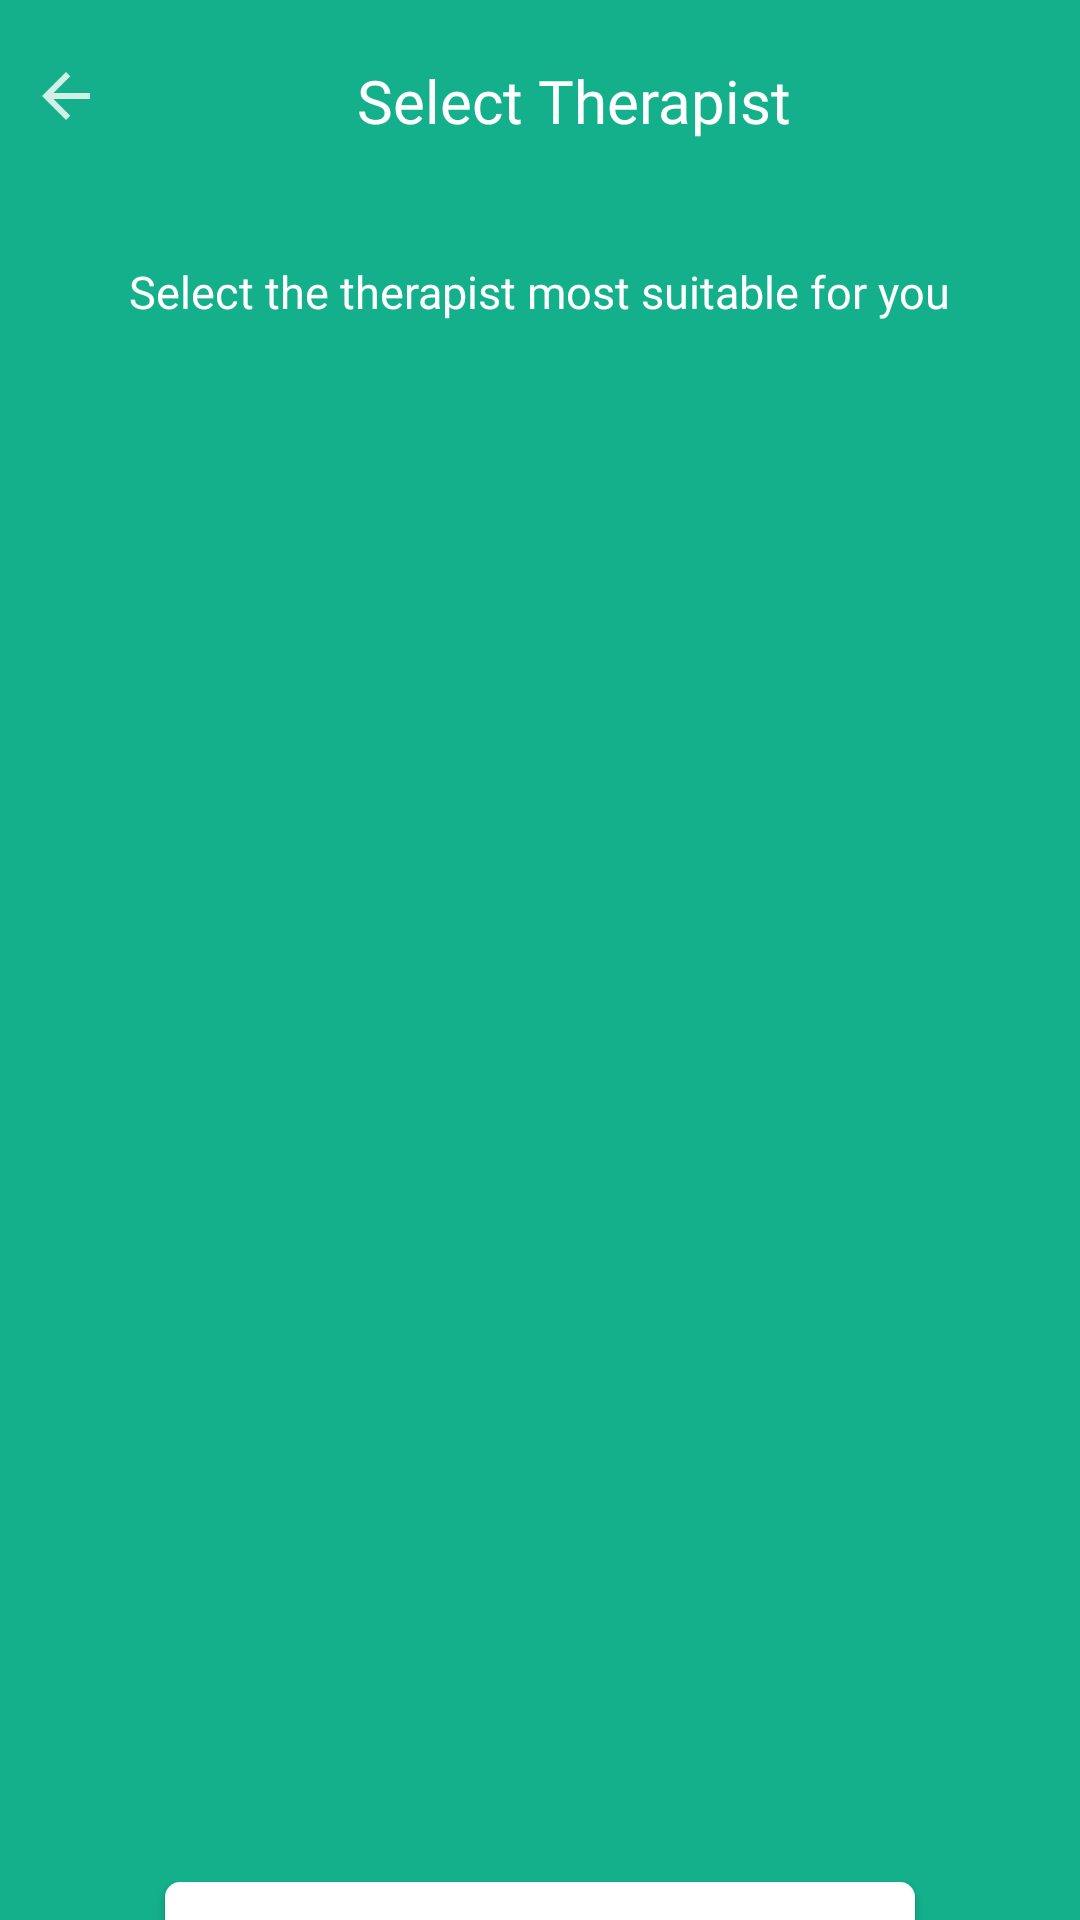

Screen size 1080 × 1920. Icon name, then its box in pixels as (x1, y1, x2, y2):
back: (42, 72, 90, 120)
